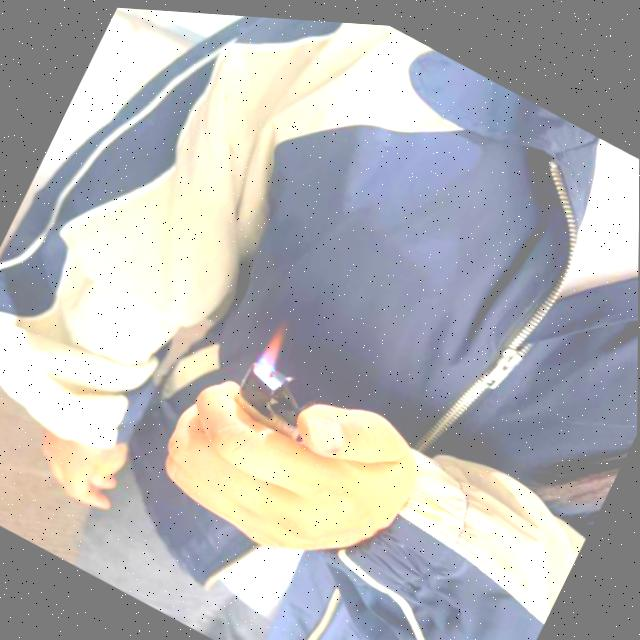Fire: (253, 319, 295, 377)
